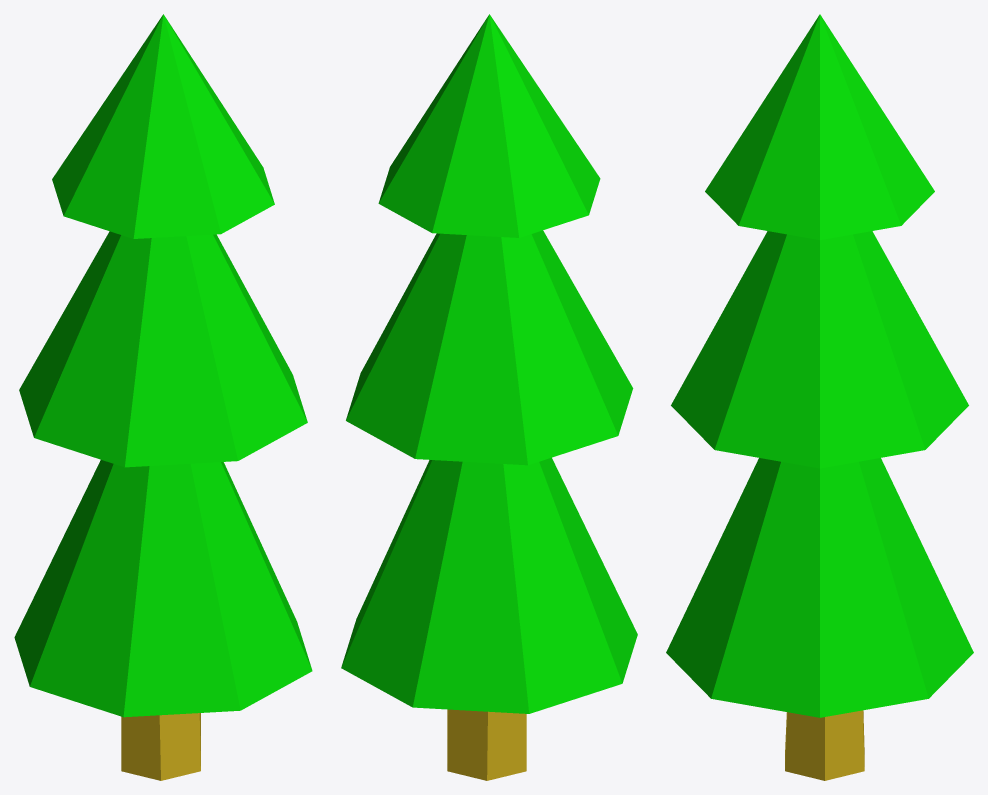
The model's file is treefinal.fbx.
3 renders of one model, left to right at view 1: azimuth 30°, elevation 25°; view 2: azimuth 150°, elevation 25°; view 3: azimuth 270°, elevation 25°, orthographic.
Parts seen in each view (by area): view 1: pCylinder3, pCylinder4; view 2: pCylinder3, pCylinder4; view 3: pCylinder3, pCylinder4.
Part boxes in pixels (left/top/right/bottom): pCylinder3: left=14, top=14, right=312, bottom=717; pCylinder4: left=121, top=713, right=200, bottom=780; pCylinder3: left=341, top=14, right=637, bottom=713; pCylinder4: left=447, top=709, right=526, bottom=780; pCylinder3: left=666, top=14, right=973, bottom=717; pCylinder4: left=785, top=710, right=864, bottom=780.
Bounding box in the file's own units: 2.78 × 7.46 × 2.78.
